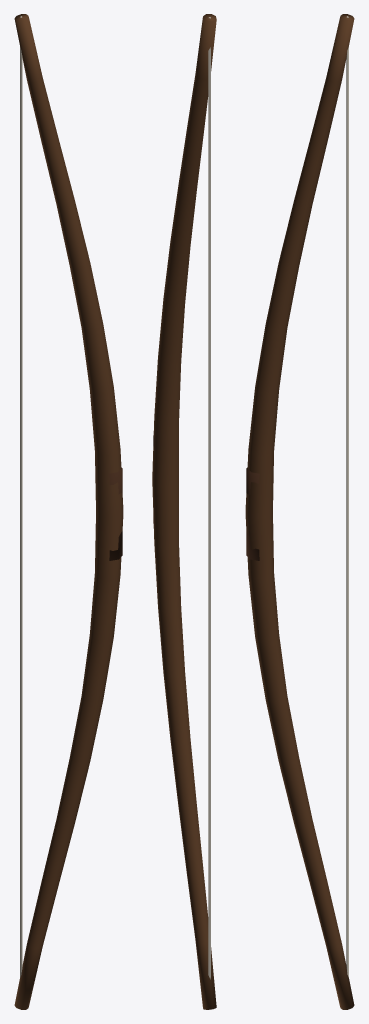
File: bow.glb
3 renders of one model, left to right at view 1: azimuth 90°, elevation 25°; view 2: azimuth 210°, elevation 25°; view 3: azimuth 270°, elevation 25°, orthographic.
Parts seen in each view (by area): view 1: bow; view 2: bow; view 3: bow.
Part boxes in pixels (x1,y1,x2,y2): bow: [14, 14, 123, 1009]; bow: [152, 14, 216, 1009]; bow: [245, 14, 354, 1009].
Bounding box in the file's own units: 0.0342 × 1.36 × 0.1357.
